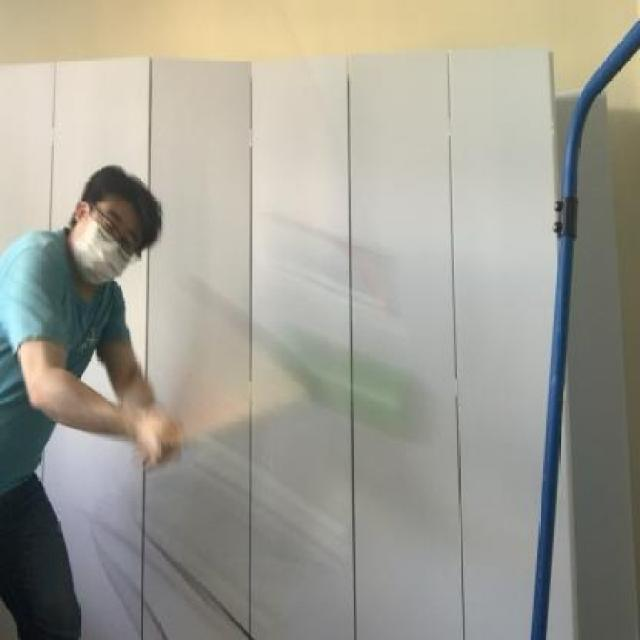baseball: (307, 333, 422, 433)
